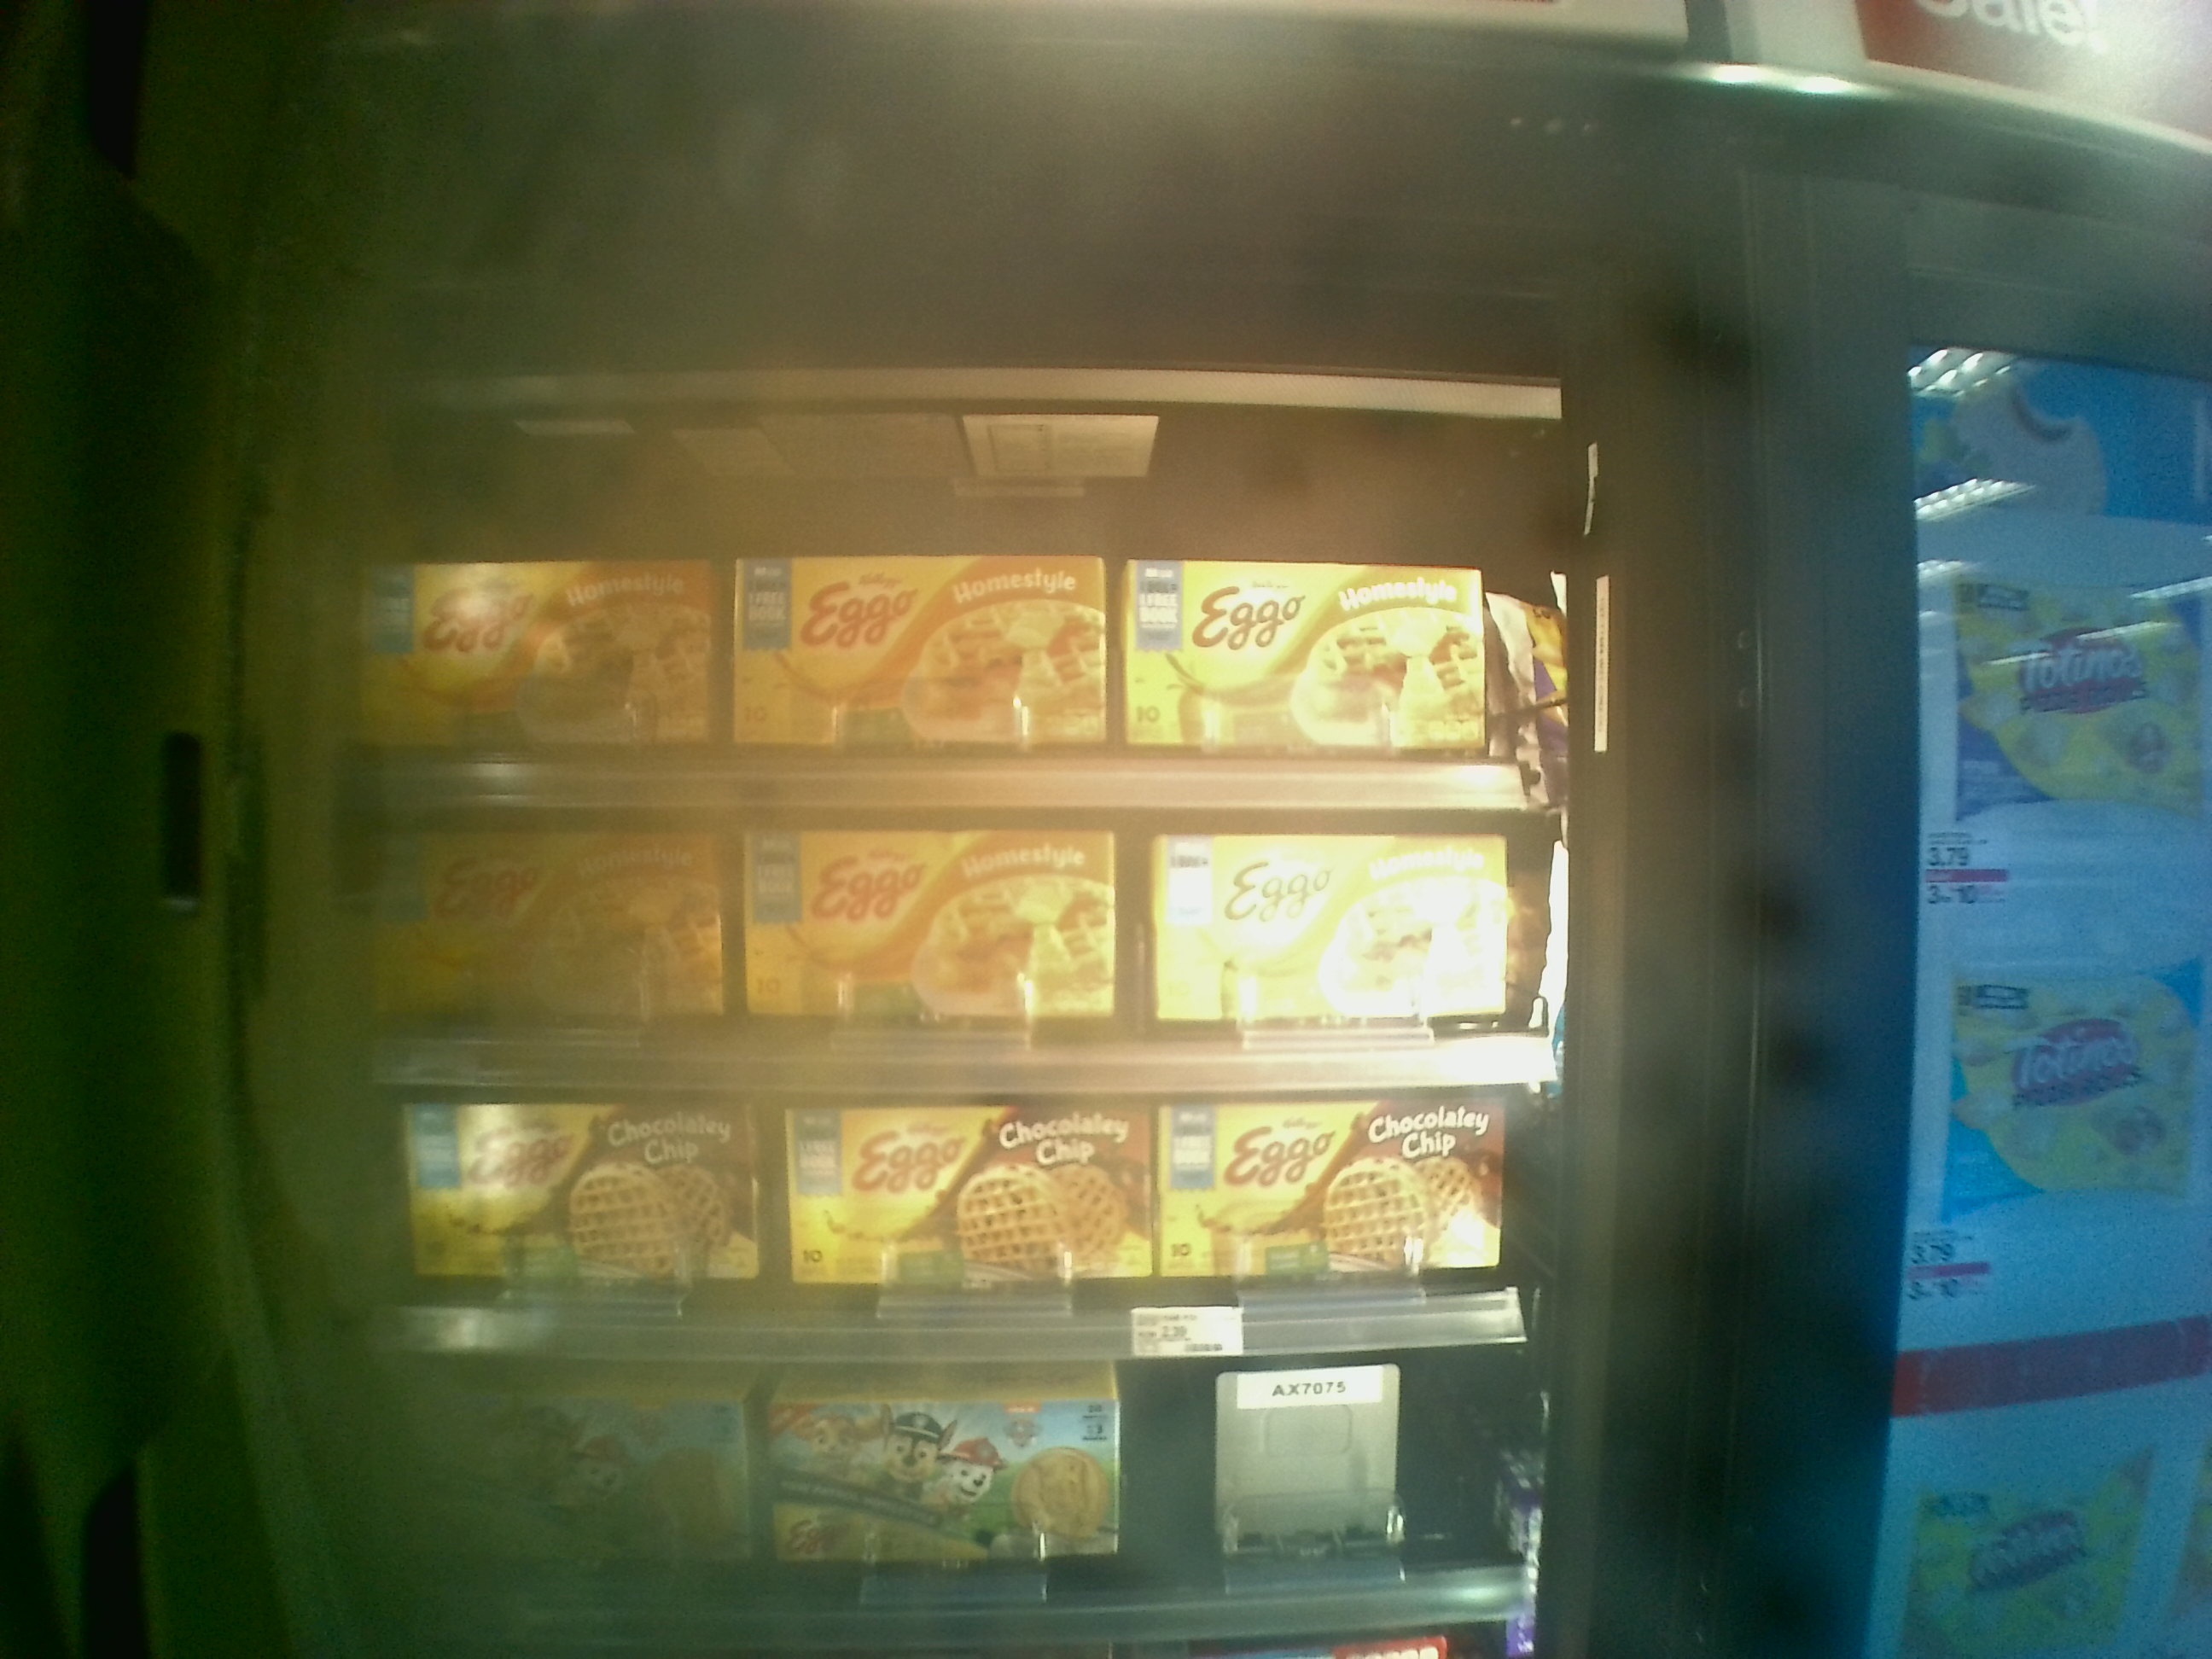shelf: (331, 368, 1550, 812), (371, 1082, 1541, 1354)
